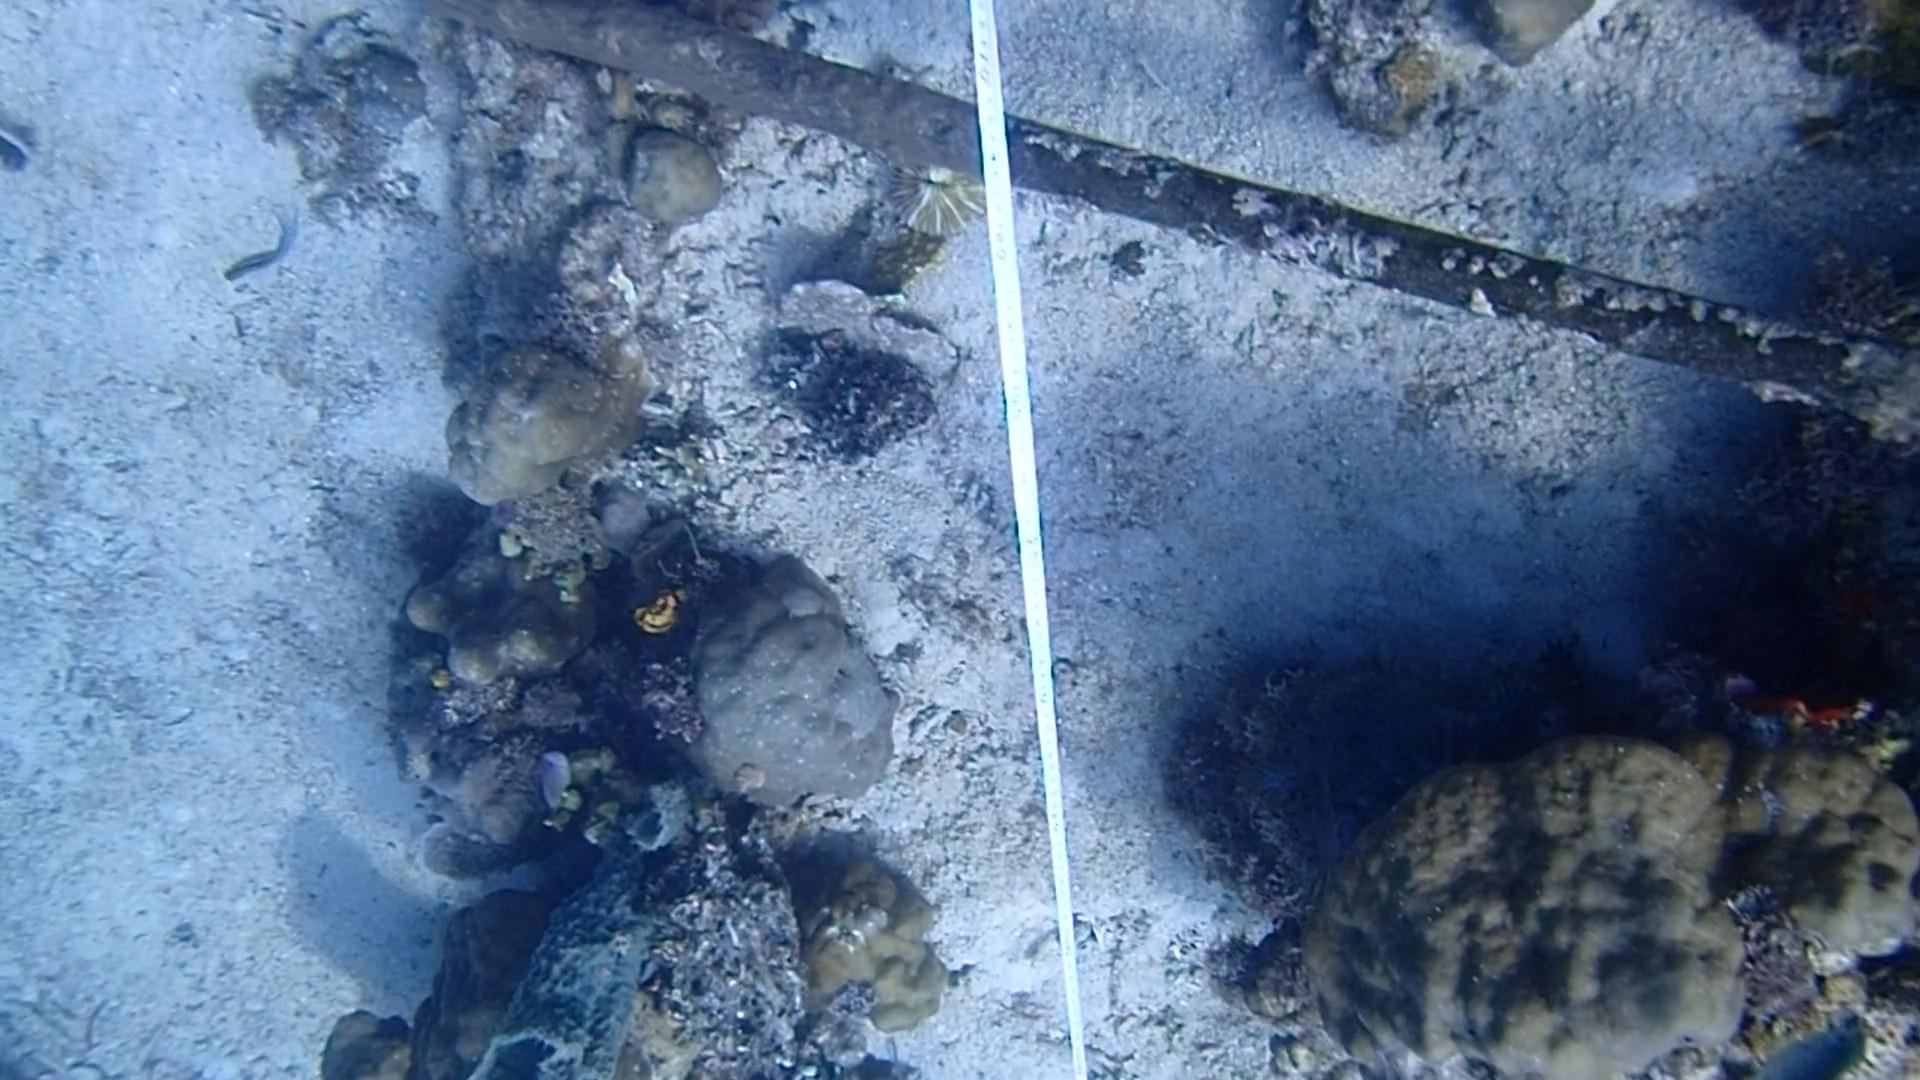Blue Nose Fish: (530, 732, 578, 823)
Dark Fish: (1305, 758, 1358, 885)
Striped Fish: (225, 203, 309, 293)
